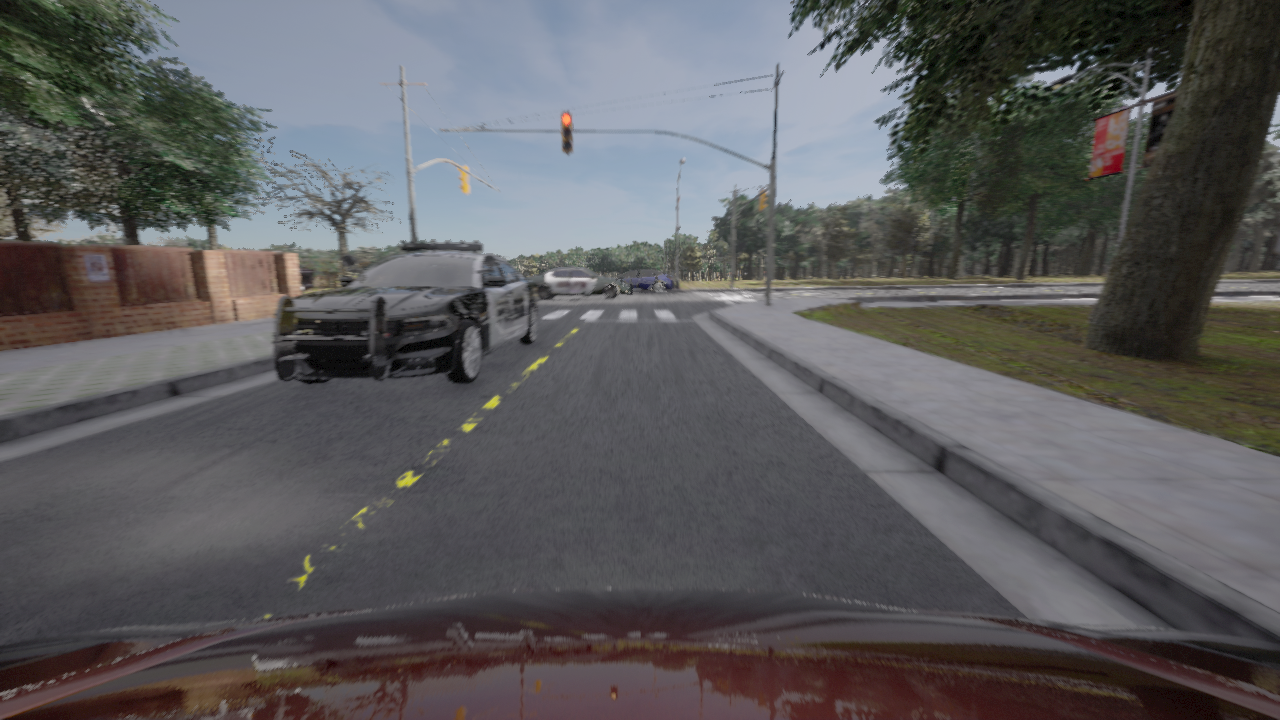cyclist: (0, 588, 1279, 719), (272, 240, 537, 384), (526, 266, 633, 300), (614, 269, 673, 293), (299, 269, 313, 295)
